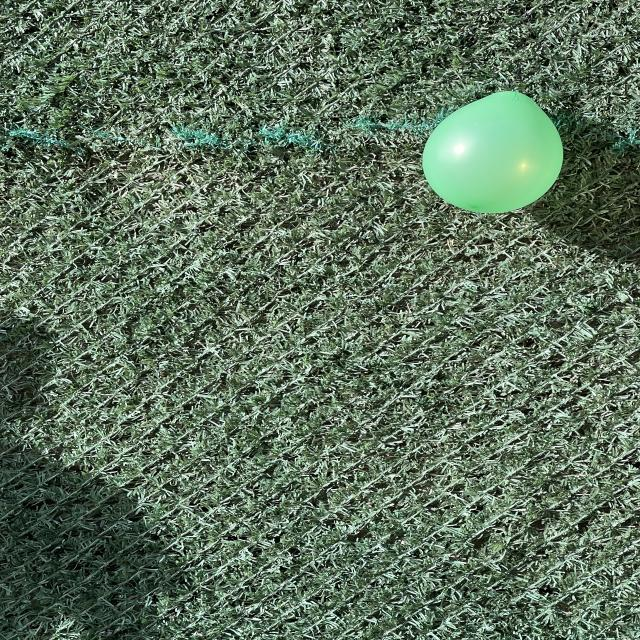balloon: (423, 92, 563, 213)
